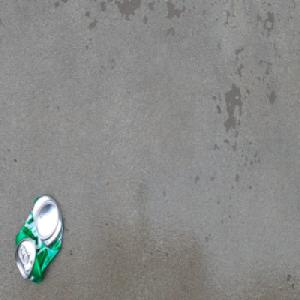SodaCan: (14, 191, 65, 284)
